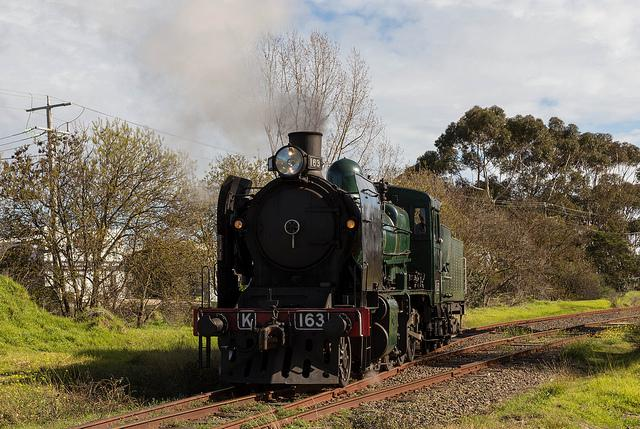Train: (193, 129, 470, 394)
